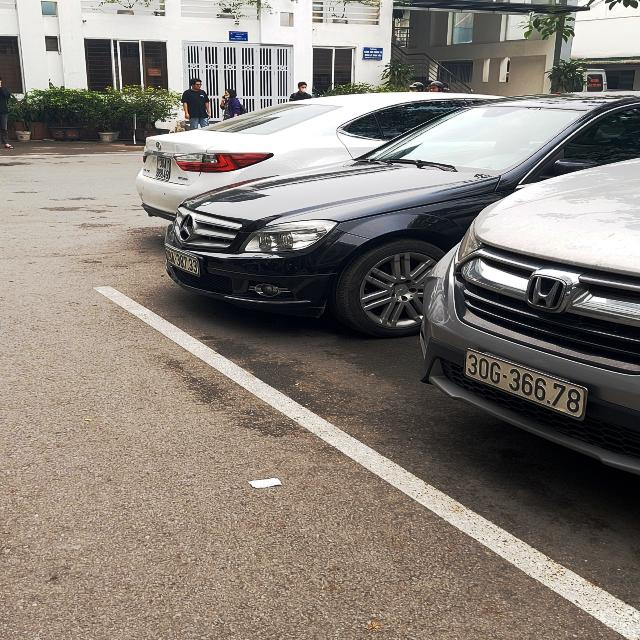license_plate: (461, 350, 590, 420)
